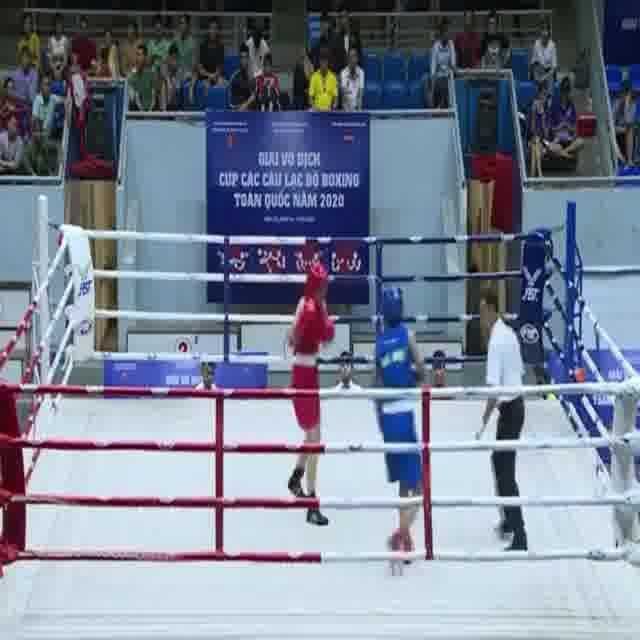blue-player: (370, 286, 429, 570)
red-player: (284, 260, 337, 528)
referee: (471, 292, 529, 557)
